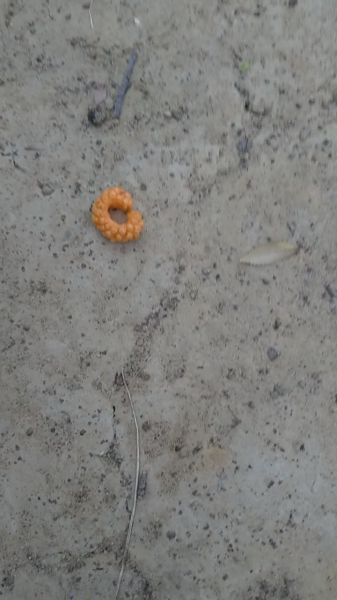eggs: (86, 180, 151, 245)
